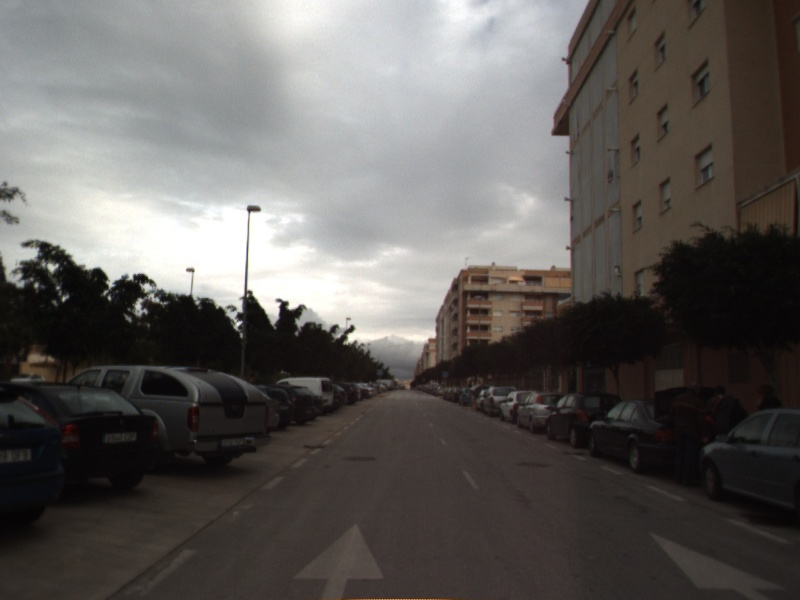STRAIGHT: (646, 529, 791, 600), (289, 520, 387, 600)
